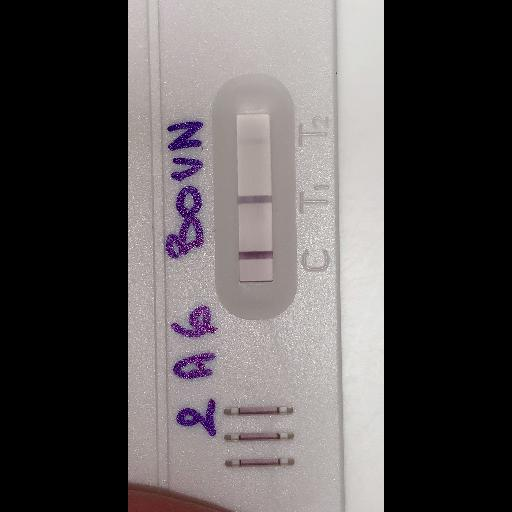Pos: (128, 0, 347, 511)
